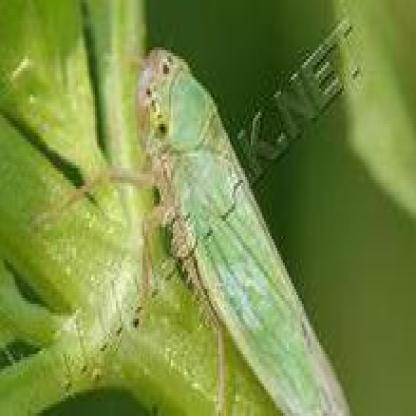Green-Leafhopper: (41, 47, 352, 416)
